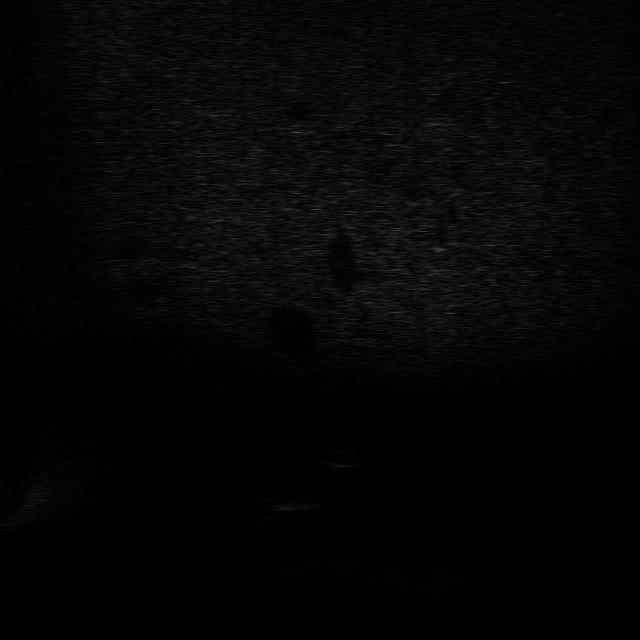ball: (318, 440, 370, 472)
square cage: (248, 489, 332, 519)
